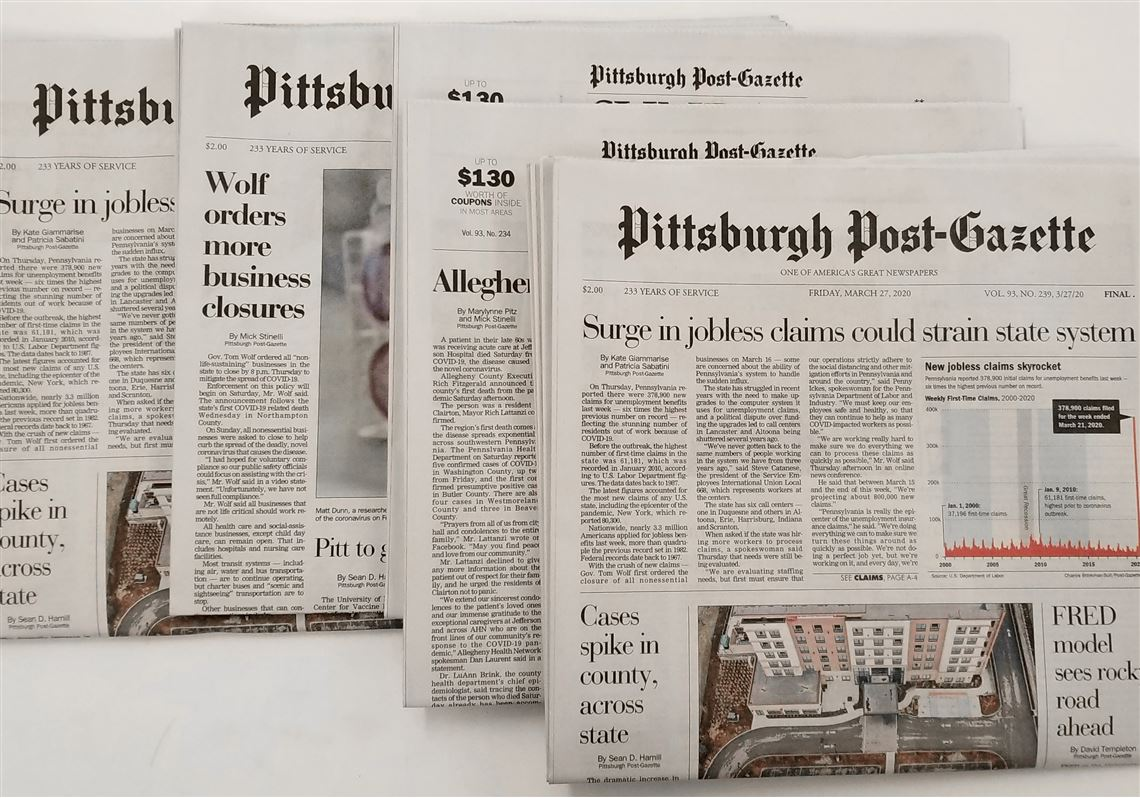news_paper: (1, 11, 1062, 722), (349, 1, 1078, 747), (136, 3, 860, 718), (503, 114, 1140, 789)
